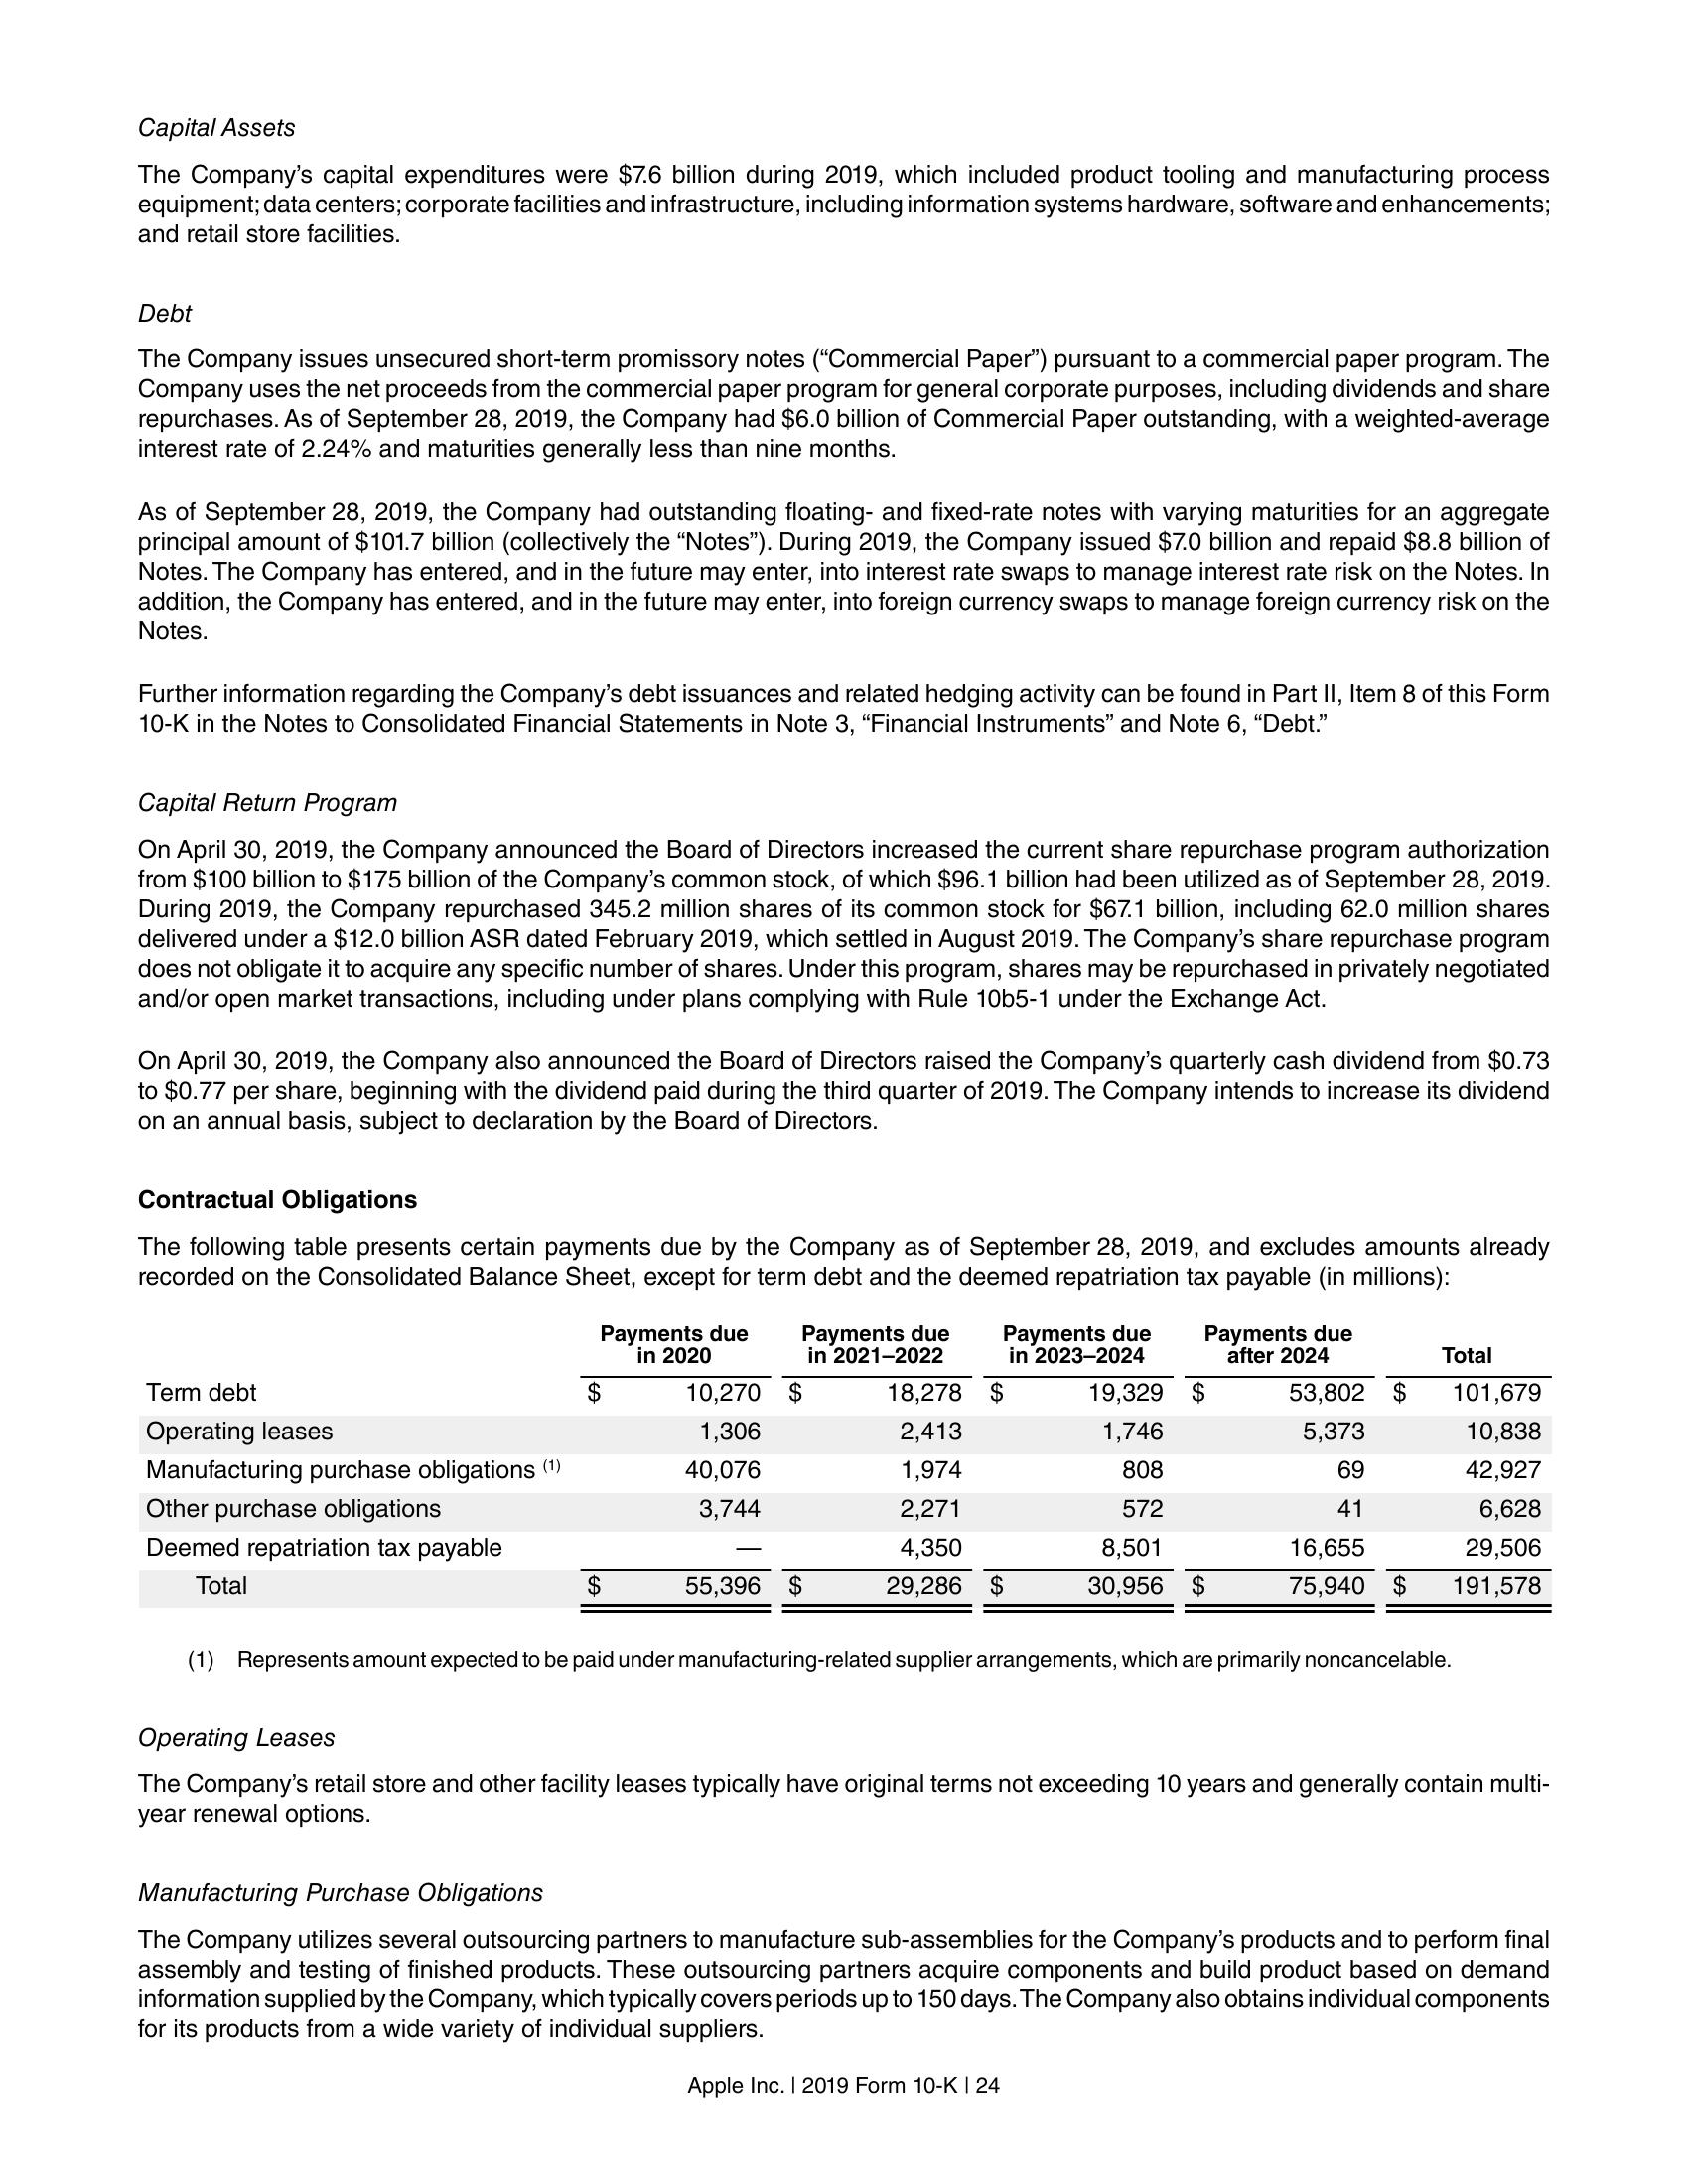table: (144, 1319, 1560, 1617)
